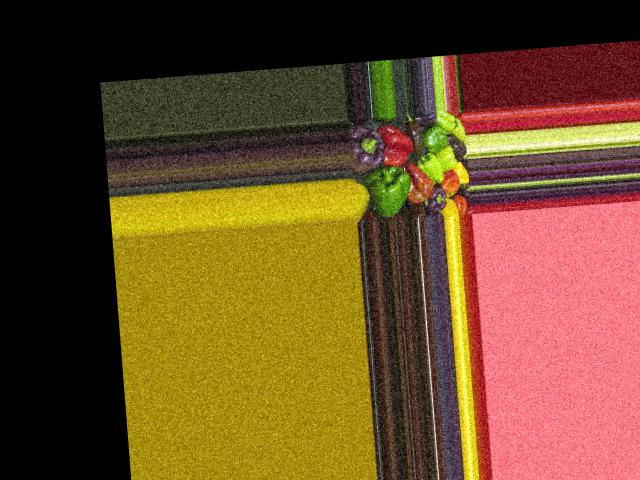bell_pepper: (424, 184, 451, 215)
